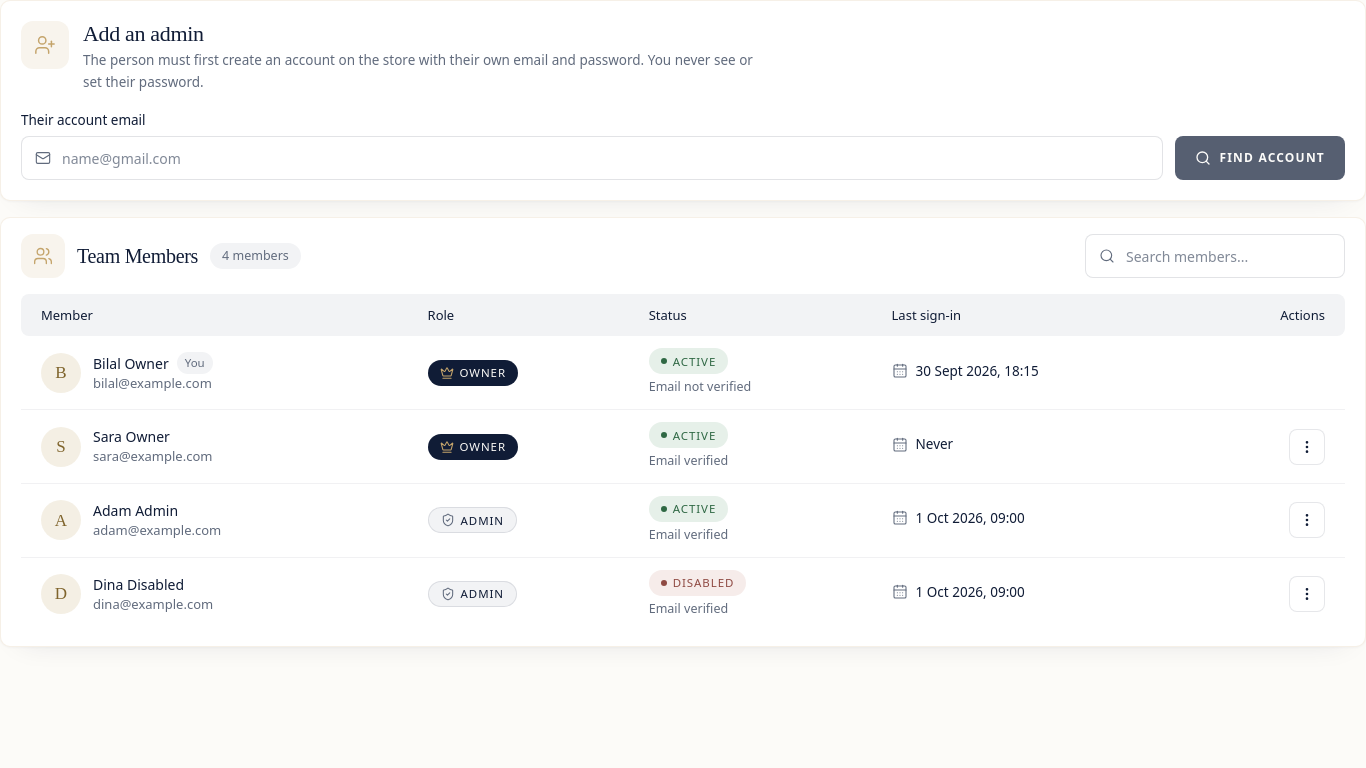
Test: who is offered which action › another owner's role badge is clickable and offers only 'Change to Admin'
This screenshot has width=1366, height=768.
Click the button "Owner": (473, 446) [428,434,518,460]
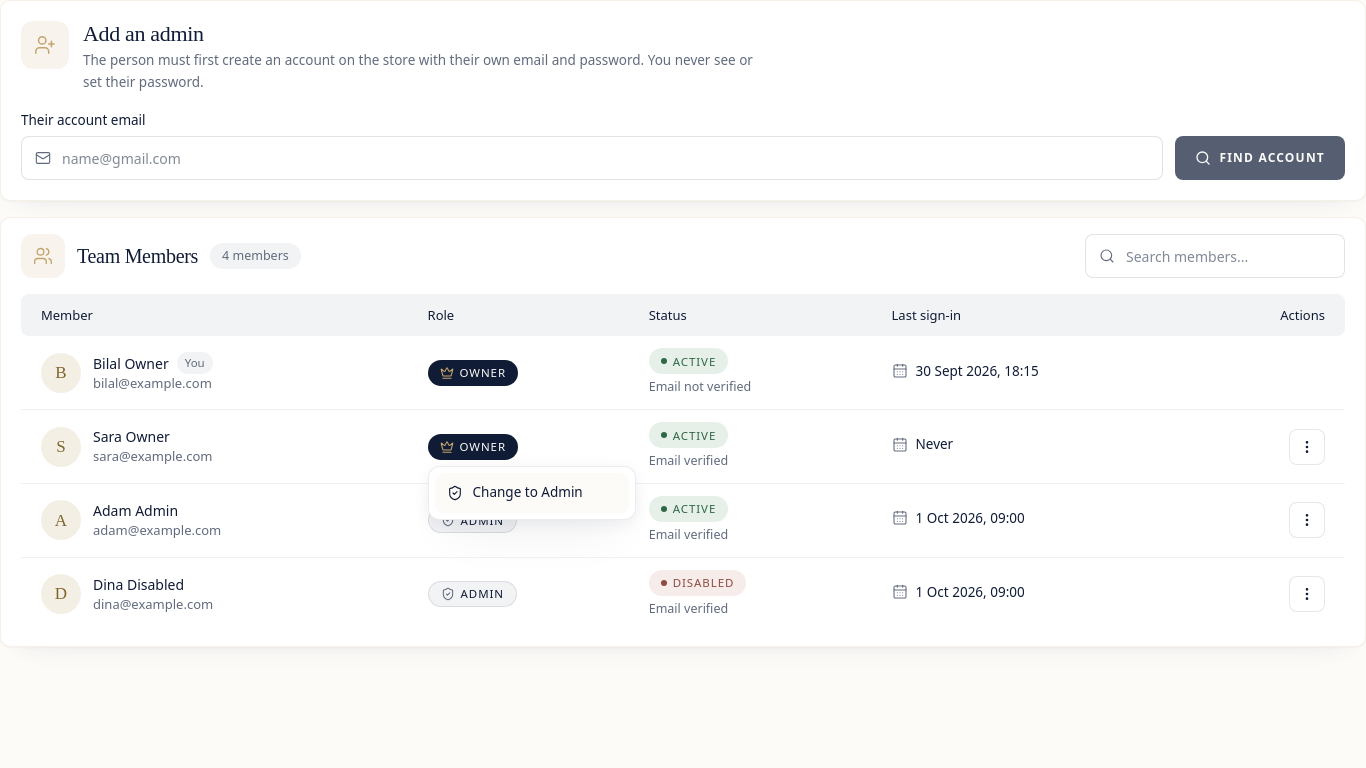
Now the menu items read "Change to Admin", in this order, box [435,472,629,512]
